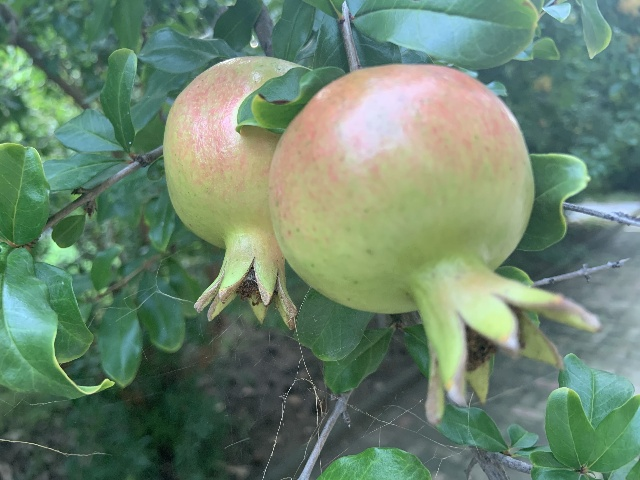mid-growth: (265, 62, 601, 423), (163, 56, 305, 331)
